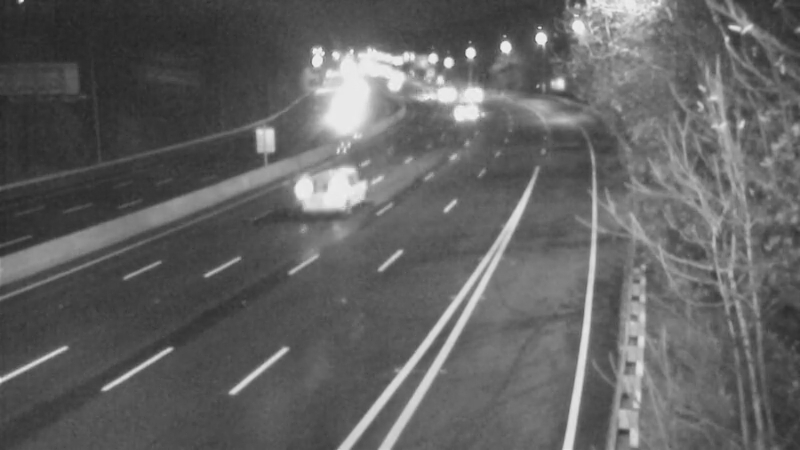vehicle: (299, 149, 379, 229), (367, 61, 417, 111), (423, 65, 473, 115), (400, 76, 450, 126), (450, 74, 500, 124), (438, 89, 488, 139)
